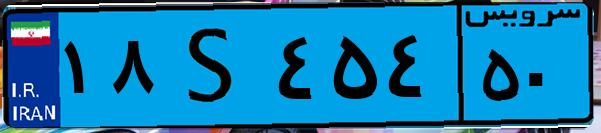0: (525, 38, 570, 115)
1: (57, 26, 110, 100)
4: (270, 28, 330, 110), (385, 28, 445, 110)
5: (330, 28, 385, 110), (475, 38, 525, 113)
8: (110, 28, 158, 98)
S: (158, 12, 270, 120)
